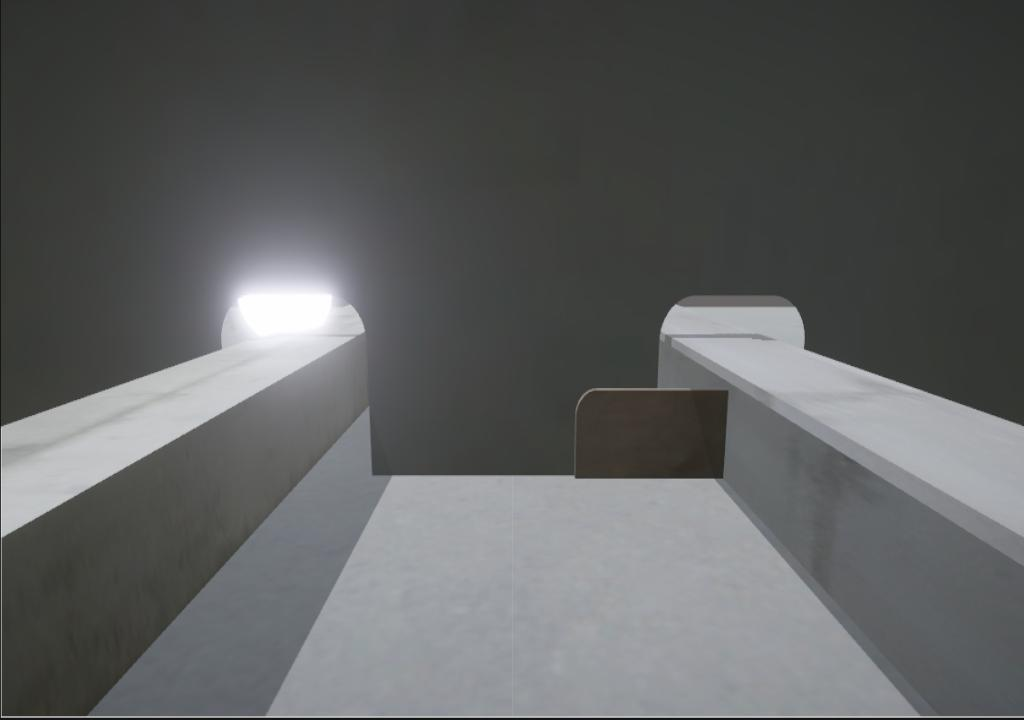fillet_yong_jeop_jang: (365, 464, 575, 484)
plate_CP05: (574, 389, 726, 480)
